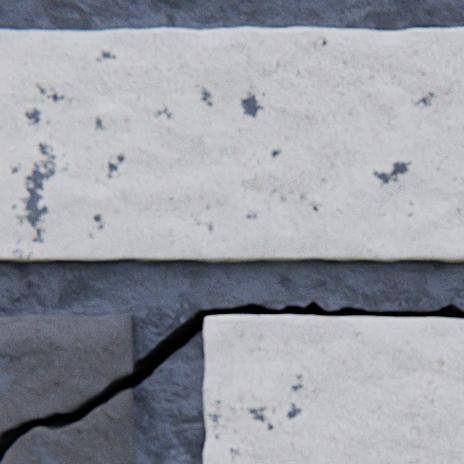brick: (0, 28, 463, 262), (204, 315, 463, 463)
broken_brick: (0, 313, 134, 438), (0, 389, 136, 463)
crack: (0, 301, 463, 462)
